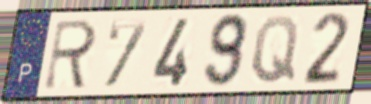2: (300, 10, 352, 87)
4: (151, 14, 193, 89)
7: (104, 18, 151, 90)
9: (201, 11, 249, 91)
Q: (248, 13, 301, 87)
R: (41, 17, 100, 93)
